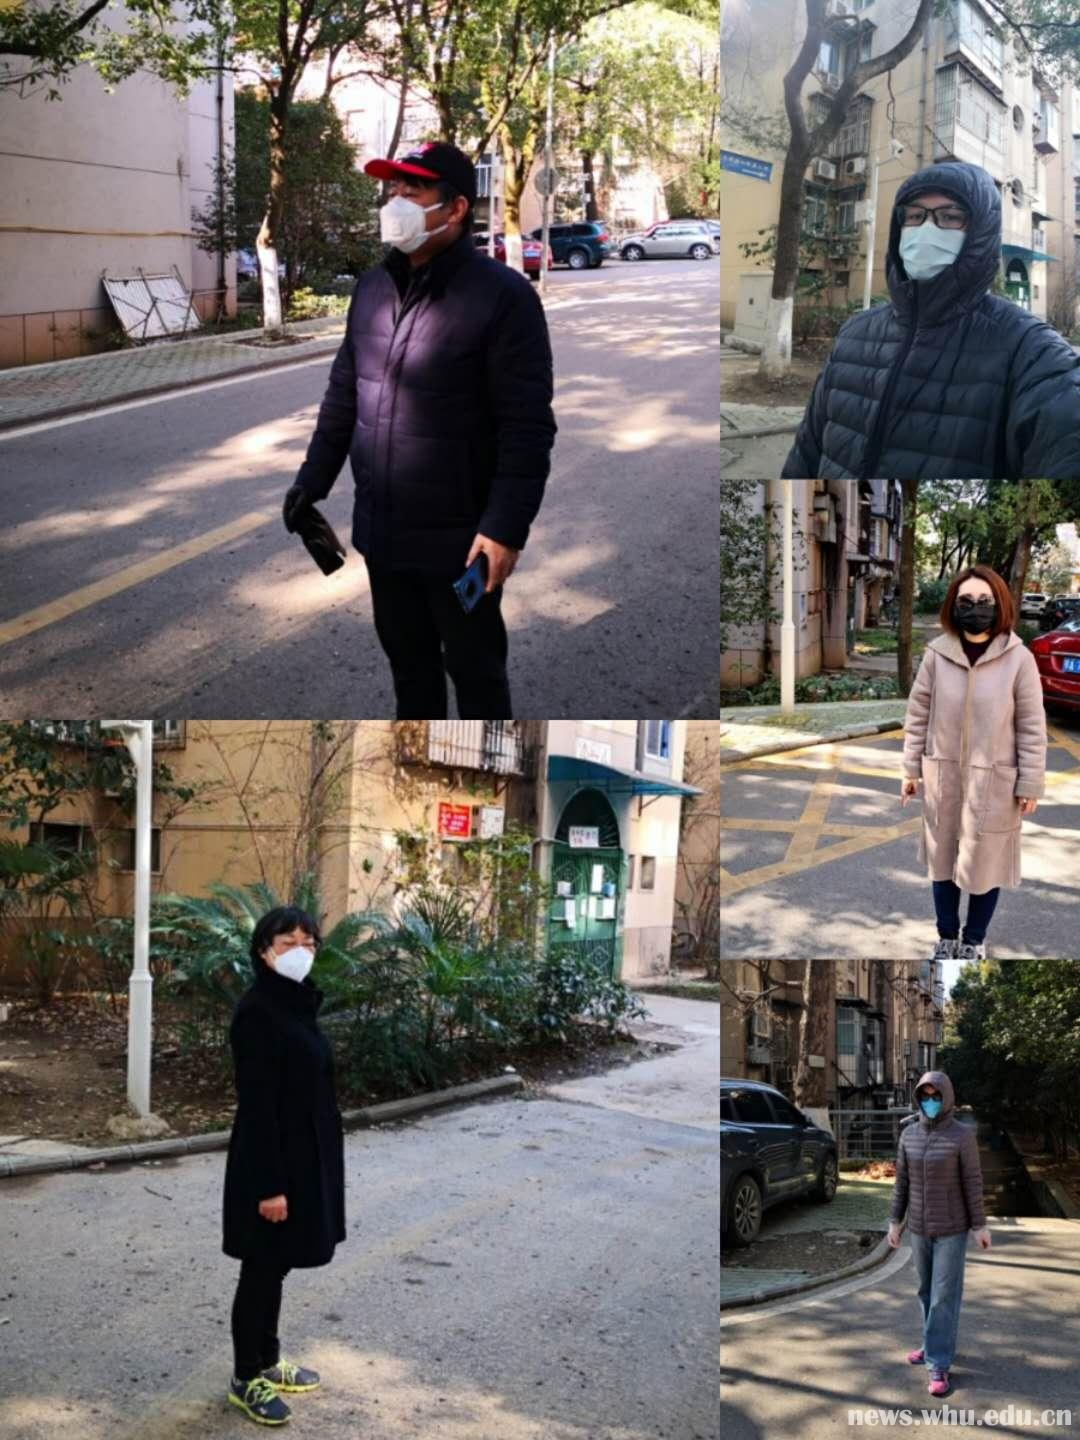correctlyWear: (891, 193, 972, 283), (376, 181, 467, 255), (939, 568, 1016, 641), (258, 927, 317, 981), (918, 1089, 944, 1119)
